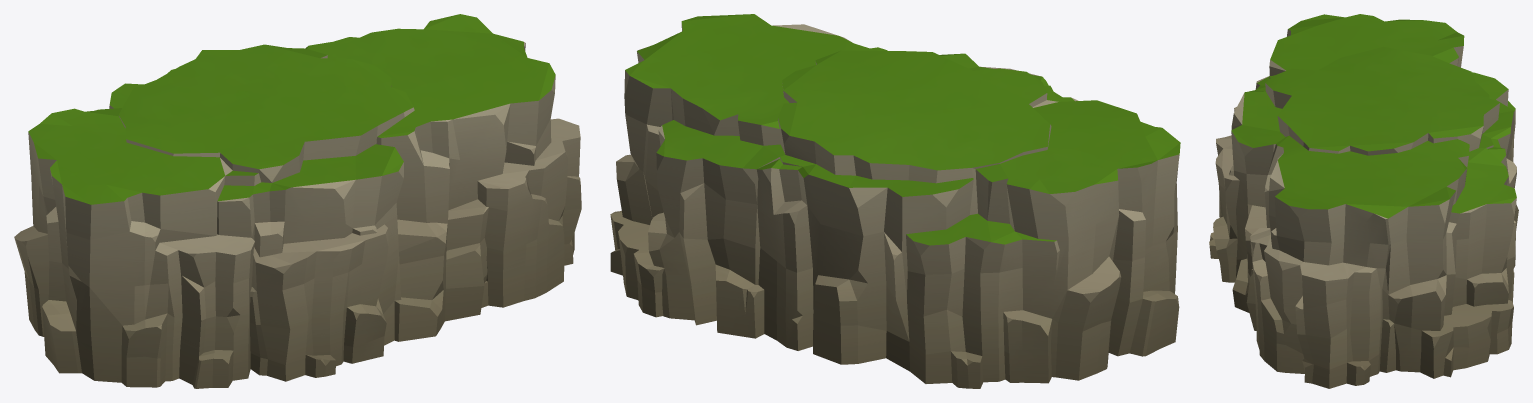
File: Rock_BigGrass_04.fbx
3 views of the same model, side by side, from view 1: azimuth 30°, elevation 25°; view 2: azimuth 150°, elevation 25°; view 3: azimuth 270°, elevation 25° (orthographic). The views are drawn at different scales.
Visible parts, largest first — view 1: Rock_BigGrass_04; view 2: Rock_BigGrass_04; view 3: Rock_BigGrass_04.
Part boxes in pixels (box(x1,y1,x2,y2)): Rock_BigGrass_04: box(14, 14, 581, 388); Rock_BigGrass_04: box(610, 14, 1180, 388); Rock_BigGrass_04: box(1209, 14, 1518, 388).
Bounding box in the file's own units: 6656 × 2419 × 3939.
